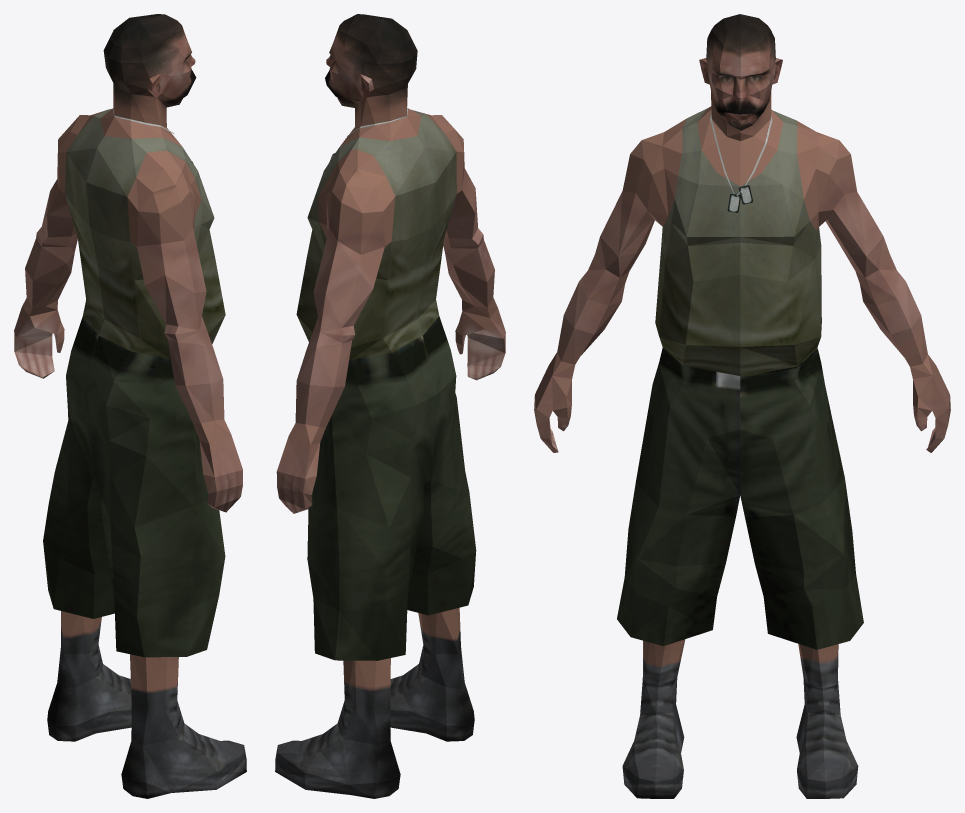
The model's file is wmyammo.obj.
The picture shows the model from 3 angles, left to right: view 1: azimuth 30°, elevation 25°; view 2: azimuth 150°, elevation 25°; view 3: azimuth 270°, elevation 25°; orthographic projection. The views are drawn at different scales.
Visible parts, largest first — view 1: _Pelvis; view 2: _Pelvis; view 3: _Pelvis.
Boxes of the visible parts, bbox=[...] form: _Pelvis: bbox=[14, 14, 246, 798]; _Pelvis: bbox=[275, 14, 505, 798]; _Pelvis: bbox=[534, 14, 950, 798].
Size of the model in its own units: 0.3326 by 1.87 by 0.9308.
1 material, 1 textured.
